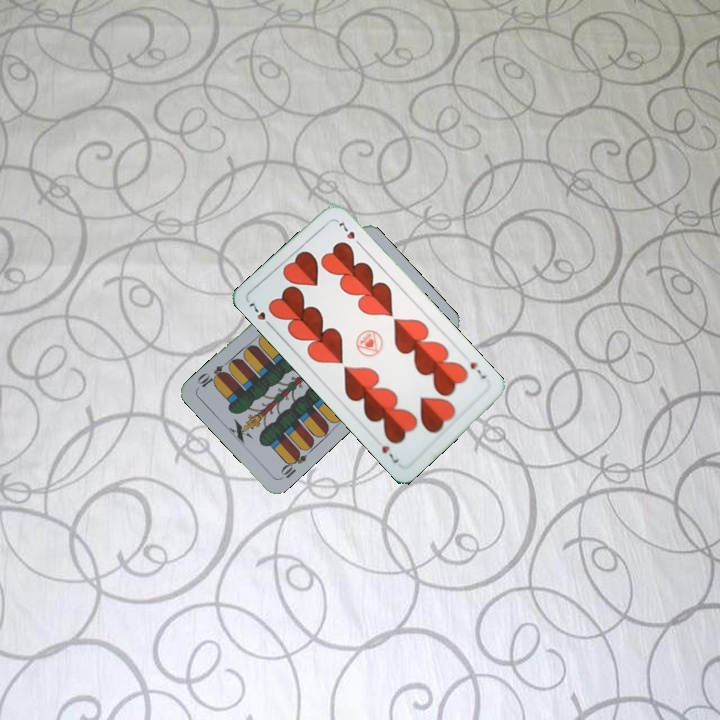E10: (276, 447, 309, 482)
H7: (244, 297, 276, 331), (466, 355, 489, 382)
